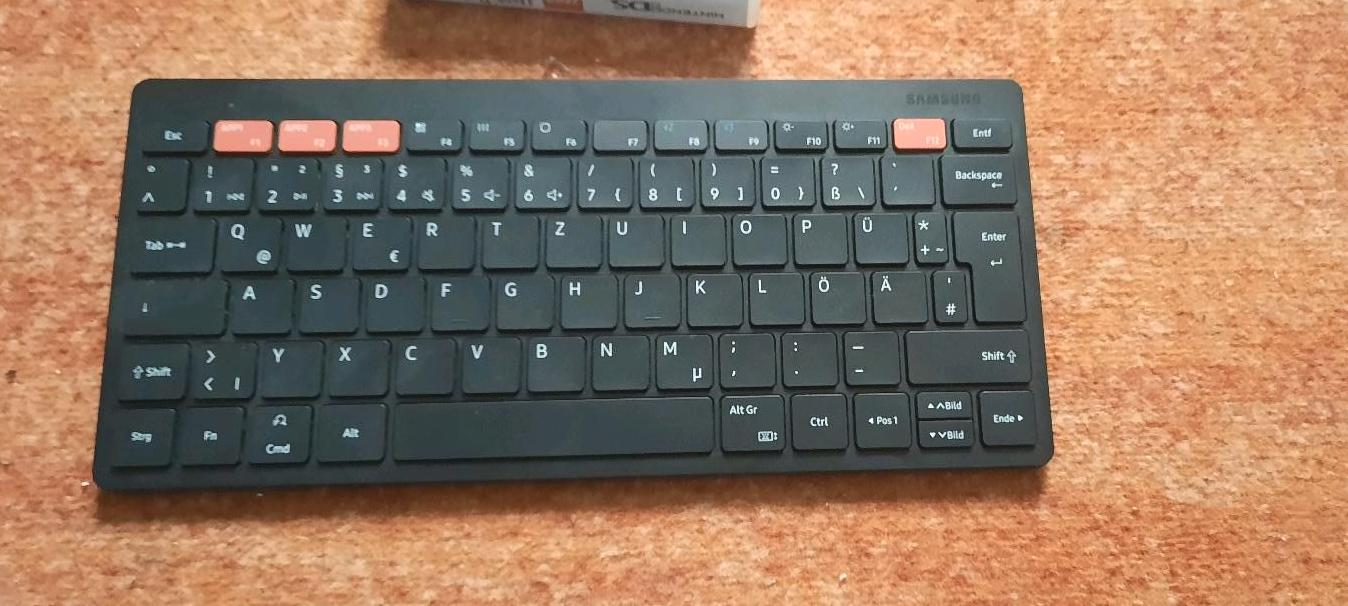0: (755, 151, 812, 205)
1: (187, 151, 250, 209)
2: (255, 153, 317, 209)
3: (320, 152, 380, 208)
4: (383, 151, 441, 207)
5: (446, 152, 506, 207)
6: (511, 152, 568, 207)
7: (573, 151, 630, 206)
8: (634, 151, 691, 206)
9: (695, 151, 751, 205)
a: (226, 274, 290, 332)
accent: (877, 149, 932, 203)
ae: (868, 267, 926, 323)
alt-left: (311, 399, 385, 461)
altgr-right: (714, 389, 784, 451)
b: (522, 332, 584, 391)
c: (391, 334, 453, 393)
caret: (128, 154, 185, 210)
comma: (714, 327, 773, 386)
d: (361, 272, 422, 330)
del: (937, 148, 1015, 202)
e: (347, 211, 409, 269)
enter: (951, 204, 1022, 320)
f: (426, 272, 487, 329)
g: (491, 271, 551, 328)
h: (556, 271, 616, 327)
hash: (929, 264, 965, 321)
i: (666, 210, 723, 264)
j: (620, 269, 678, 326)
k: (683, 269, 741, 325)
keyboard: (86, 69, 1055, 496)
l: (745, 268, 802, 324)
less: (188, 337, 254, 397)
m: (651, 329, 711, 389)
minus: (838, 326, 896, 383)
n: (588, 332, 647, 390)
o: (727, 210, 784, 264)
oe: (806, 268, 863, 324)
p: (788, 209, 845, 264)
plus: (909, 206, 945, 261)
point: (776, 327, 835, 384)
q: (213, 212, 278, 271)
r: (413, 211, 472, 268)
s: (294, 274, 356, 331)
shift-left: (111, 338, 186, 399)
shift-lock: (116, 273, 222, 334)
shift-right: (903, 324, 1030, 381)
space: (389, 394, 712, 458)
ss: (816, 152, 871, 204)
strg-left: (94, 403, 174, 466)
strg-right: (787, 389, 846, 449)
t: (477, 211, 536, 267)
tab: (121, 210, 212, 271)
u: (604, 211, 662, 266)
ue: (849, 208, 906, 263)
v: (458, 333, 519, 392)
w: (281, 211, 343, 269)
x: (323, 335, 387, 394)
y: (257, 336, 320, 396)
z: (541, 211, 600, 267)
